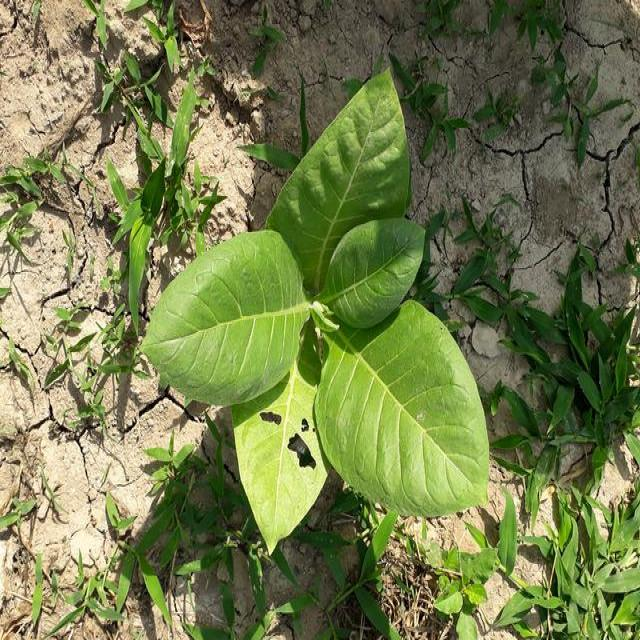crop: (140, 54, 497, 546)
